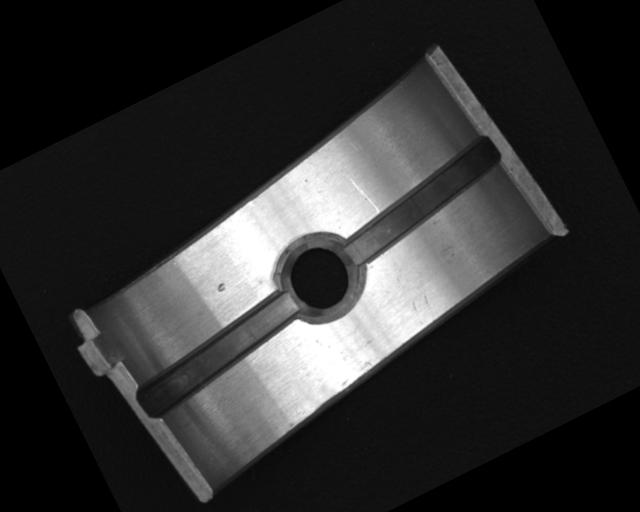bruise: (215, 281, 228, 294)
gap: (326, 133, 516, 270), (124, 288, 314, 421)
hole: (265, 218, 377, 334)
nick: (346, 170, 381, 219)
